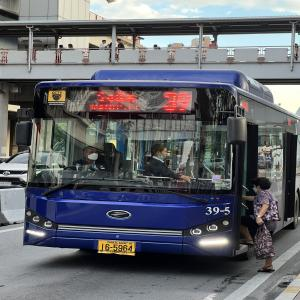Bus Line Number: (157, 87, 196, 116)
Bus Side Number: (200, 203, 234, 217)
Destination Sign: (87, 89, 146, 113)
TSB-Bus: (22, 69, 300, 259)
